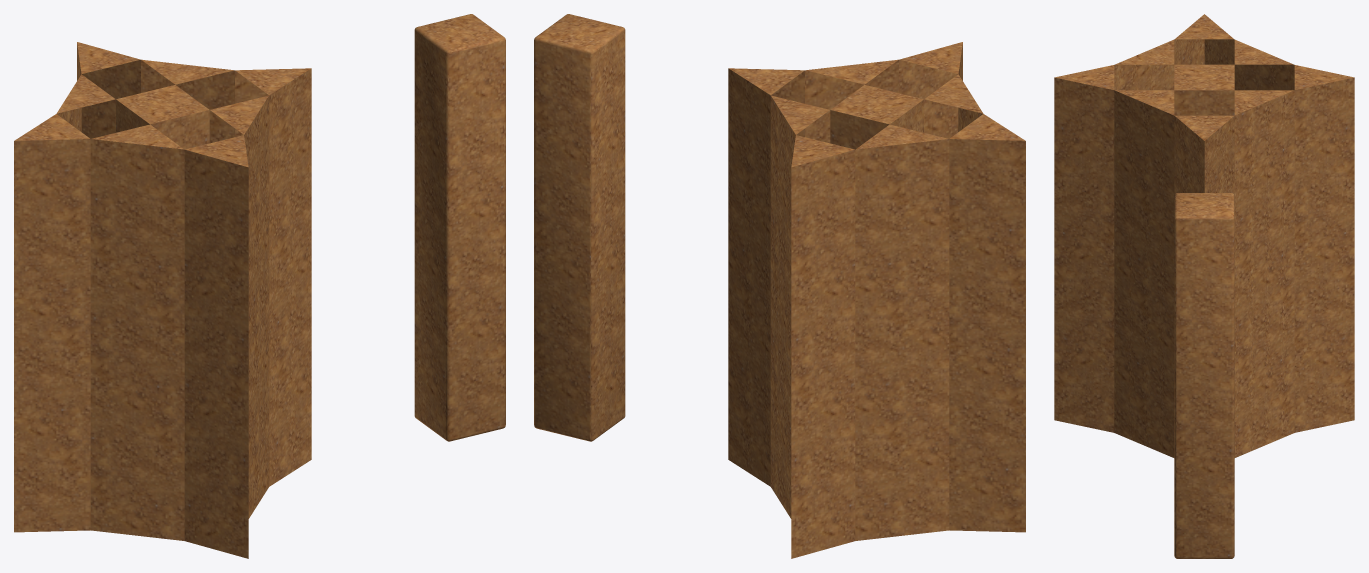
The model's file is tiles.fbx.
3 views of the same model, side by side, from view 1: azimuth 30°, elevation 25°; view 2: azimuth 150°, elevation 25°; view 3: azimuth 270°, elevation 25° (orthographic). The views are drawn at different scales.
Visible parts, largest first — view 1: Cube.002, Cube.003, Cube.005, Cube.011, Cube.004, Cube.001, Cube, Cube.012, Cube.013; view 2: Cube.013, Cube.003, Cube.005, Cube.011, Cube.004, Cube.012, Cube, Cube.001, Cube.002; view 3: Cube.011, Cube.003, Cube.001, Cube.012, Cube.004, Cube, Cube.002, Cube.013, Cube.005.
Boxes of the visible parts, left/top/right/bottom form: Cube.002: left=90, top=124, right=184, bottom=540; Cube.003: left=414, top=14, right=505, bottom=441; Cube.005: left=14, top=114, right=90, bottom=532; Cube.011: left=77, top=42, right=248, bottom=558; Cube.004: left=235, top=68, right=311, bottom=486; Cube.001: left=210, top=95, right=269, bottom=518; Cube: left=116, top=85, right=209, bottom=149; Cube.012: left=141, top=59, right=234, bottom=143; Cube.013: left=56, top=74, right=115, bottom=131; Cube.013: left=855, top=124, right=949, bottom=540; Cube.003: left=534, top=14, right=625, bottom=441; Cube.005: left=949, top=114, right=1025, bottom=532; Cube.011: left=791, top=42, right=962, bottom=558; Cube.004: left=728, top=68, right=804, bottom=486; Cube.012: left=770, top=95, right=829, bottom=518; Cube: left=830, top=85, right=923, bottom=149; Cube.001: left=805, top=59, right=898, bottom=143; Cube.002: left=924, top=74, right=983, bottom=131; Cube.011: left=1054, top=65, right=1354, bottom=432; Cube.003: left=1174, top=193, right=1234, bottom=558; Cube.001: left=1114, top=90, right=1174, bottom=457; Cube.012: left=1234, top=90, right=1294, bottom=457; Cube.004: left=1174, top=115, right=1234, bottom=195; Cube: left=1174, top=64, right=1234, bottom=115; Cube.002: left=1114, top=39, right=1174, bottom=90; Cube.013: left=1234, top=39, right=1294, bottom=90; Cube.005: left=1174, top=14, right=1234, bottom=64.
Size of the model in its own units: 800 by 629 by 500.
